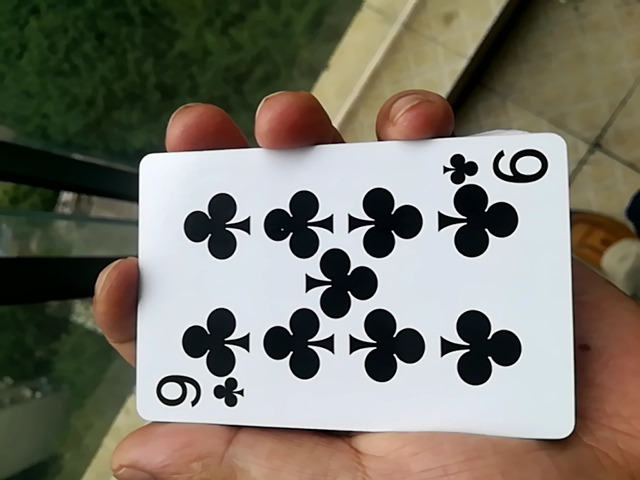mh 9: (127, 133, 568, 440)
